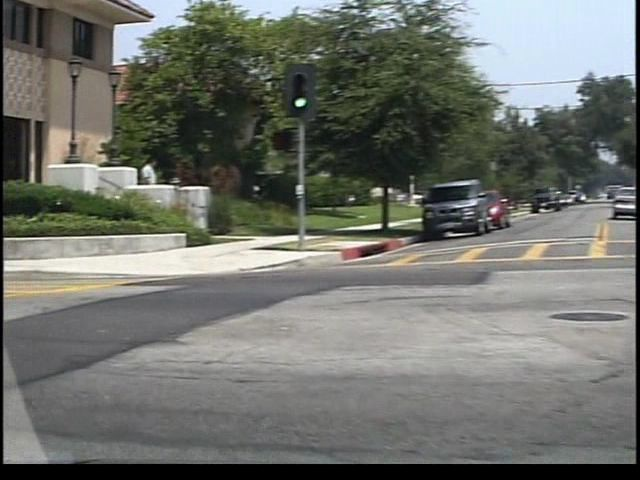person: (130, 152, 151, 219)
